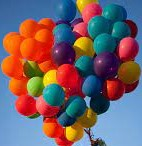Balloon: (92, 53, 118, 78), (118, 61, 142, 84), (117, 37, 139, 62), (80, 75, 104, 97), (102, 78, 125, 100), (43, 84, 65, 107), (58, 64, 79, 88), (2, 55, 23, 79), (64, 96, 87, 117), (20, 39, 42, 60), (52, 43, 73, 65), (93, 34, 117, 53), (55, 1, 76, 22), (15, 95, 36, 116), (87, 16, 110, 35), (90, 95, 110, 115), (44, 118, 63, 138), (73, 37, 93, 55), (66, 123, 83, 142)
